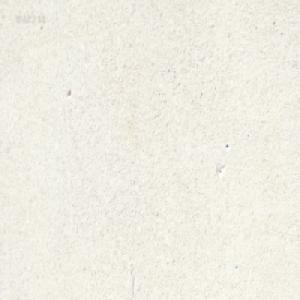Wrench: (112, 0, 118, 4)
